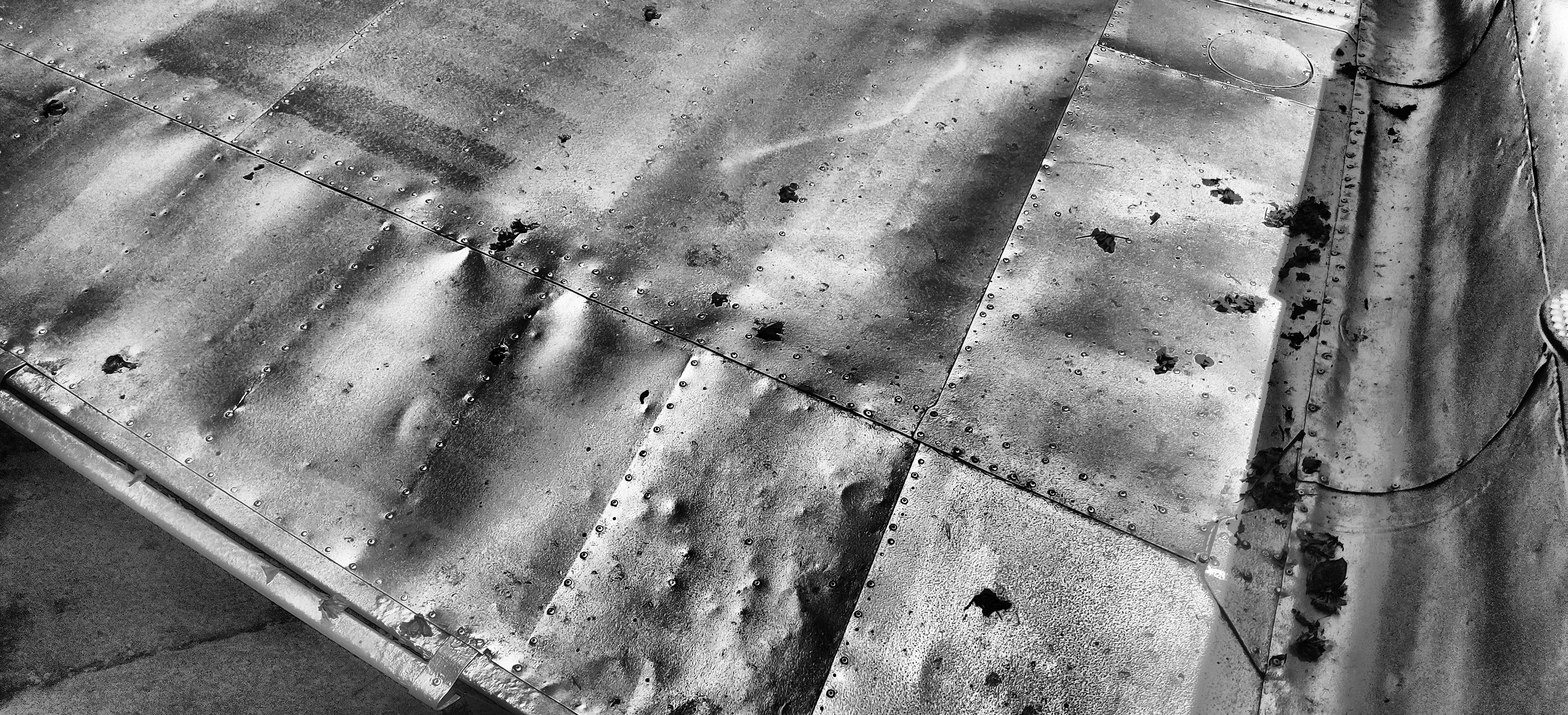crack: (230, 390, 251, 415), (1138, 57, 1160, 66), (1356, 64, 1376, 73)
dent: (439, 245, 484, 270), (1332, 348, 1356, 387), (781, 579, 807, 605), (836, 480, 858, 502), (666, 497, 686, 519)
missing-head: (1540, 340, 1548, 354), (1338, 264, 1346, 270), (1038, 323, 1044, 328), (1109, 516, 1115, 521), (1171, 543, 1176, 549), (163, 211, 168, 216), (216, 156, 221, 161), (450, 232, 455, 237), (1070, 498, 1075, 503), (1056, 424, 1061, 429), (63, 308, 67, 314), (300, 144, 304, 150), (144, 230, 148, 235), (199, 174, 204, 178), (144, 101, 149, 105), (685, 332, 689, 337), (716, 346, 720, 351), (810, 362, 815, 366), (1024, 451, 1029, 455), (985, 435, 990, 439), (973, 329, 977, 334), (959, 376, 963, 381), (1061, 466, 1066, 470), (1100, 482, 1104, 487), (1140, 500, 1145, 504), (900, 513, 905, 517), (1354, 120, 1359, 124), (1075, 106, 1080, 110), (1037, 179, 1042, 183), (1092, 341, 1097, 345), (1183, 472, 1187, 477), (1175, 257, 1181, 260), (124, 250, 128, 254), (181, 192, 185, 196), (448, 163, 452, 167), (624, 282, 628, 286), (1006, 268, 1010, 272), (999, 287, 1003, 291), (967, 358, 971, 362), (958, 364, 962, 368), (1344, 185, 1348, 189), (1118, 5, 1122, 9), (1249, 177, 1253, 181), (1272, 185, 1276, 189), (1113, 132, 1117, 136), (1091, 125, 1095, 129), (1096, 60, 1100, 64), (1062, 123, 1066, 127), (1065, 131, 1069, 135), (1020, 235, 1024, 239), (1201, 264, 1205, 268), (1159, 313, 1163, 317), (1146, 359, 1150, 363), (1219, 360, 1223, 364), (355, 192, 360, 195), (269, 156, 274, 159), (883, 419, 888, 422), (1010, 242, 1015, 245), (911, 486, 914, 491), (85, 289, 88, 293), (105, 270, 109, 273), (779, 348, 783, 351), (765, 368, 769, 371), (815, 389, 819, 392), (997, 275, 1000, 279), (982, 323, 986, 326), (974, 340, 978, 343), (949, 420, 953, 423), (862, 383, 866, 386), (1070, 388, 1074, 391), (1219, 71, 1223, 74), (1217, 33, 1221, 36), (1207, 37, 1211, 40), (1203, 53, 1207, 56), (1281, 38, 1285, 41), (1296, 46, 1300, 49), (1312, 81, 1316, 84), (1214, 121, 1218, 124), (1073, 99, 1077, 102), (1070, 119, 1074, 122), (1050, 151, 1054, 154), (1053, 159, 1057, 162), (1192, 199, 1195, 203), (1027, 219, 1031, 222), (1278, 289, 1282, 292), (1258, 397, 1262, 400), (386, 183, 391, 185), (294, 166, 297, 169), (1245, 15, 1248, 18), (1302, 87, 1305, 90), (1287, 104, 1290, 107), (1211, 131, 1214, 134), (1208, 142, 1211, 145), (1202, 162, 1205, 165), (1180, 154, 1183, 157), (1158, 147, 1161, 150), (1109, 39, 1112, 42), (1084, 75, 1087, 78), (1081, 94, 1084, 97), (1047, 173, 1050, 176), (1202, 378, 1205, 381), (1079, 222, 1082, 225), (731, 328, 735, 330), (1135, 140, 1139, 142), (1112, 18, 1116, 20), (1056, 145, 1060, 147), (655, 295, 657, 298), (1265, 34, 1268, 36), (1217, 112, 1220, 114), (1226, 170, 1229, 172), (1114, 15, 1117, 17), (1092, 71, 1094, 74), (1289, 90, 1291, 92)
scratch: (1338, 312, 1347, 341)
